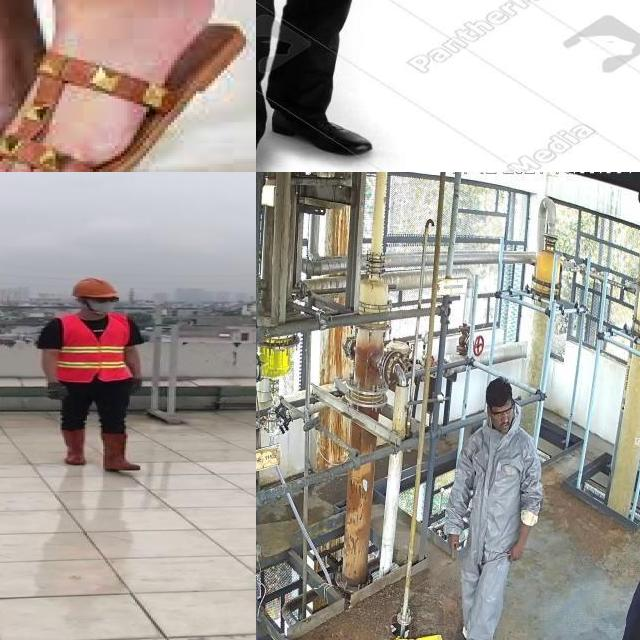Sandals: (0, 0, 246, 172)
boots: (100, 431, 140, 471), (58, 427, 88, 464)
face_nomask: (492, 407, 516, 432)
glasses: (492, 406, 515, 420)
hand_noglove: (506, 540, 526, 564), (446, 530, 460, 560)
head_helmet: (68, 278, 122, 298)
head_nohelmet: (483, 376, 513, 408)
person: (443, 376, 544, 640), (256, 0, 409, 172), (34, 275, 154, 477), (581, 461, 640, 640)
vest: (58, 314, 132, 382)
